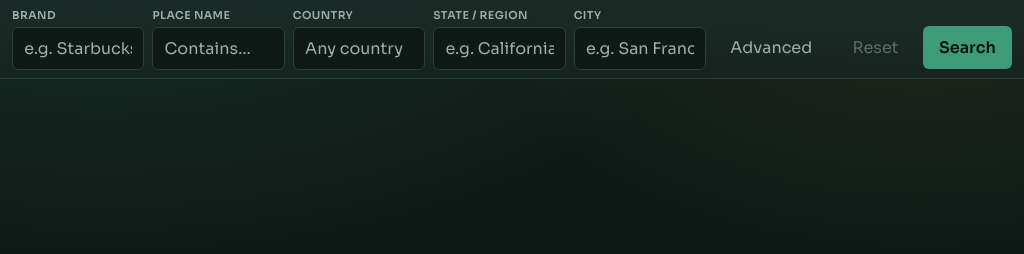
it: SearchFilters › omits subcategory until a top category is selected in Advanced
Click the button "Advanced" at (771, 47), box [714,26,828,69]
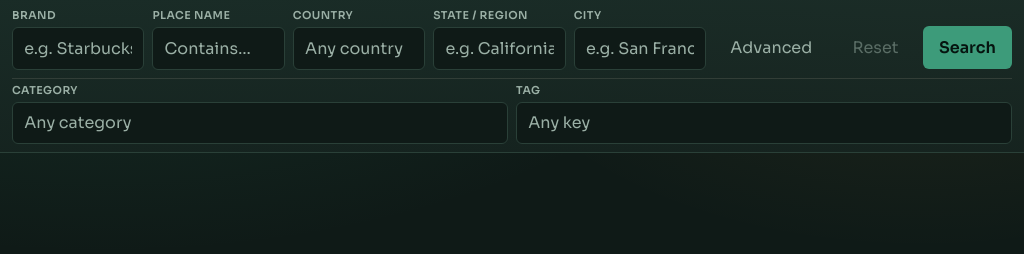
Expected: the field labelled "Subcategory" is not shown
Click the dropdown labelled "category" at (78, 123), box [12,102,508,144]
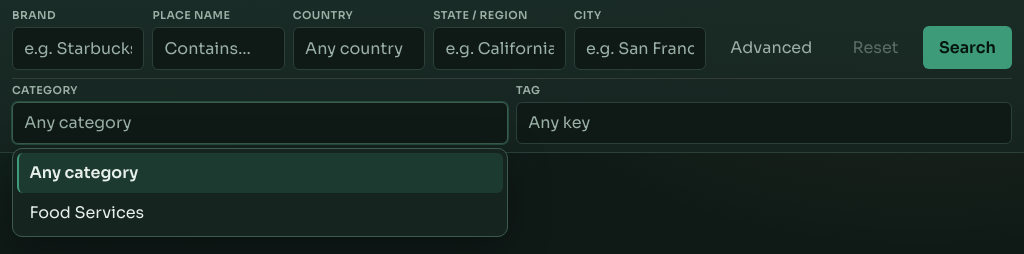
Click the option "Food Services" at (87, 212), box [29,202,144,223]
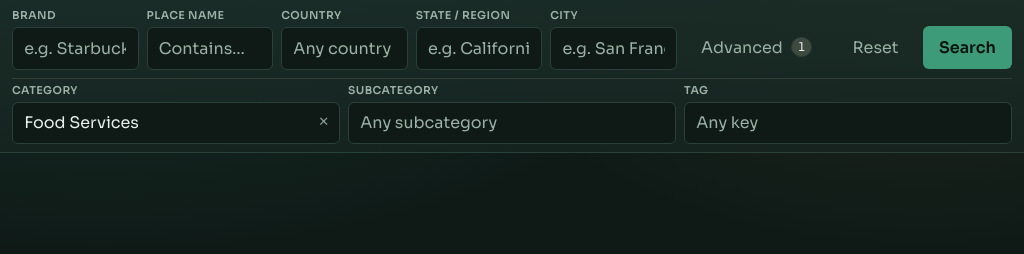
Expected: the dropdown labelled "subcategory" is shown, [348,102,676,144]
